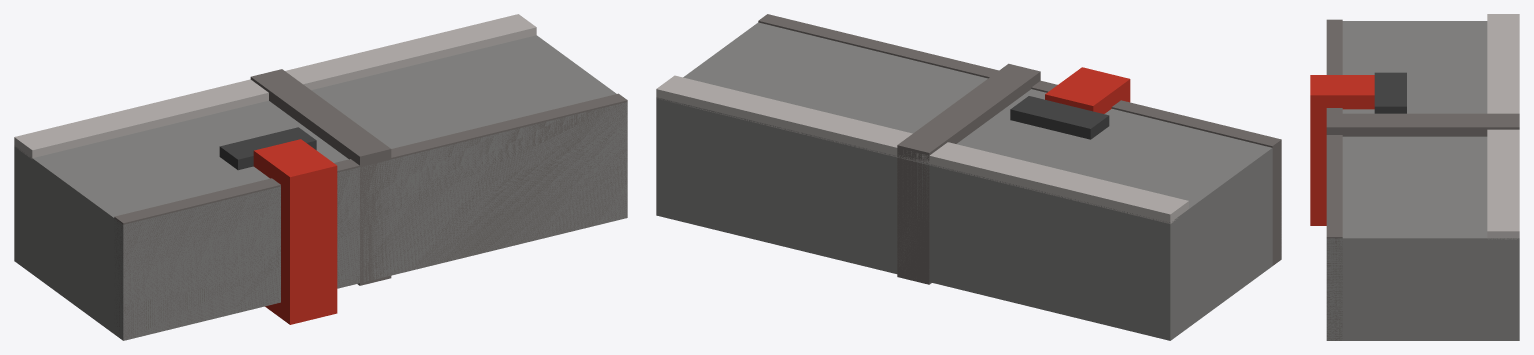
File: CMU3DInheritedStructureRMCOverheadFuelLine14Cloud.glb
3 views of the same model, side by side, from view 1: azimuth 30°, elevation 25°; view 2: azimuth 150°, elevation 25°; view 3: azimuth 270°, elevation 25° (orthographic). The views are drawn at different scales.
Visible parts, largest first — view 1: wide duct structural run 0, lower casing seam 0, raised top shoulder 0, red valve handle, physical transverse seam 15, underslung valve mounting; view 2: wide duct structural run 0, raised top shoulder 0, physical transverse seam 15, lower casing seam 0, red valve handle, underslung valve mounting; view 3: wide duct structural run 0, raised top shoulder 0, physical transverse seam 15, red valve handle, lower casing seam 0, underslung valve mounting.
Part boxes in pixels (bbox=[...]): wide duct structural run 0: bbox=[14, 35, 627, 340]; lower casing seam 0: bbox=[114, 93, 627, 340]; raised top shoulder 0: bbox=[14, 14, 536, 159]; red valve handle: bbox=[253, 139, 337, 324]; physical transverse seam 15: bbox=[250, 69, 391, 285]; underslung valve mounting: bbox=[219, 127, 316, 170]; wide duct structural run 0: bbox=[656, 22, 1281, 340]; raised top shoulder 0: bbox=[656, 75, 1188, 223]; physical transverse seam 15: bbox=[897, 63, 1040, 284]; lower casing seam 0: bbox=[758, 14, 1281, 265]; red valve handle: bbox=[1045, 67, 1130, 113]; underslung valve mounting: bbox=[1010, 96, 1109, 139]; wide duct structural run 0: bbox=[1326, 21, 1519, 340]; raised top shoulder 0: bbox=[1487, 14, 1519, 239]; physical transverse seam 15: bbox=[1326, 113, 1519, 136]; red valve handle: bbox=[1310, 75, 1374, 225]; lower casing seam 0: bbox=[1326, 19, 1342, 340]; underslung valve mounting: bbox=[1374, 72, 1406, 113].
Bounding box in the file's own units: 1 × 0.28 × 0.4062.
